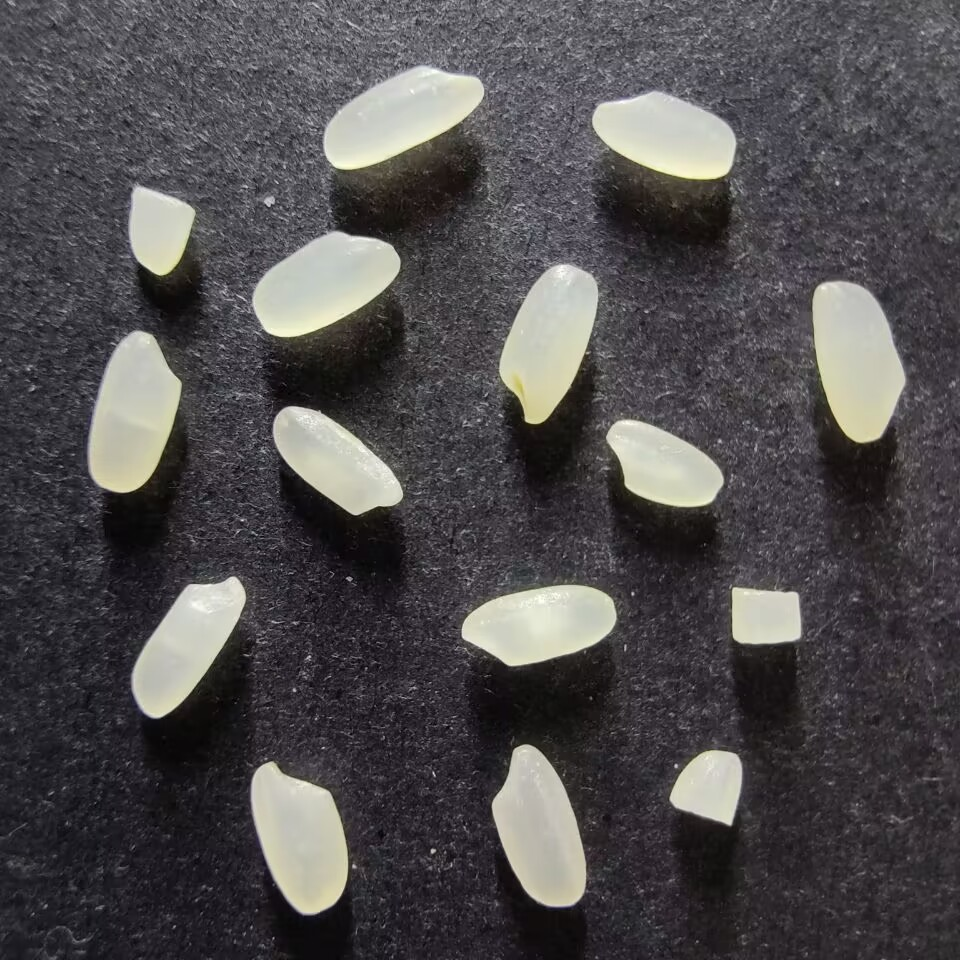broken: (127, 184, 195, 277), (670, 749, 743, 828), (729, 585, 802, 645)
rice: (321, 65, 484, 170), (130, 574, 245, 718), (497, 263, 598, 424), (251, 230, 401, 337), (490, 744, 587, 907), (810, 280, 906, 444), (86, 329, 181, 493), (249, 761, 348, 916), (271, 405, 402, 515), (590, 90, 736, 180), (460, 585, 616, 666), (605, 419, 725, 508)
